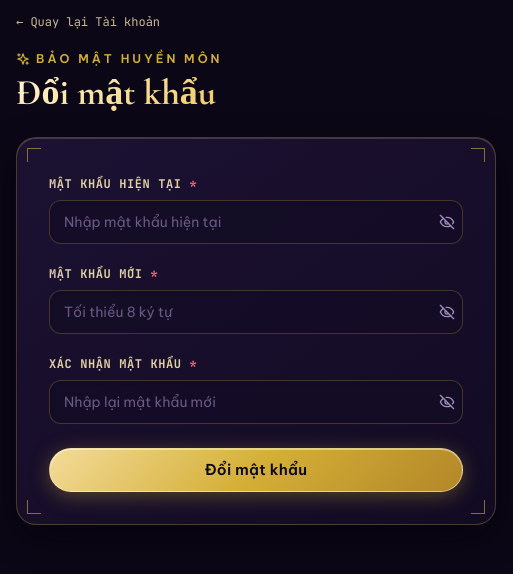
ChangePassword Page › should show CURRENT_PASSWORD_INCORRECT under the current password field
Type "WrongPassword1" into the password field labelled "Mật khẩu hiện tại". click: (256,222)
box: [49,200,463,244]
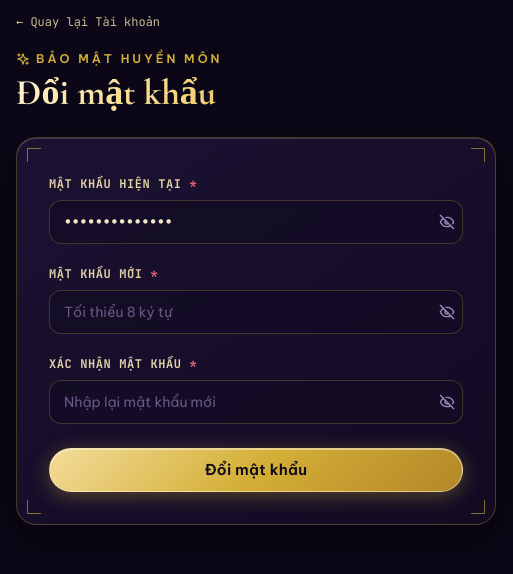
Type "NewPassword123" into the password field labelled "Mật khẩu mới". click: (256,312)
box: [49,290,463,334]
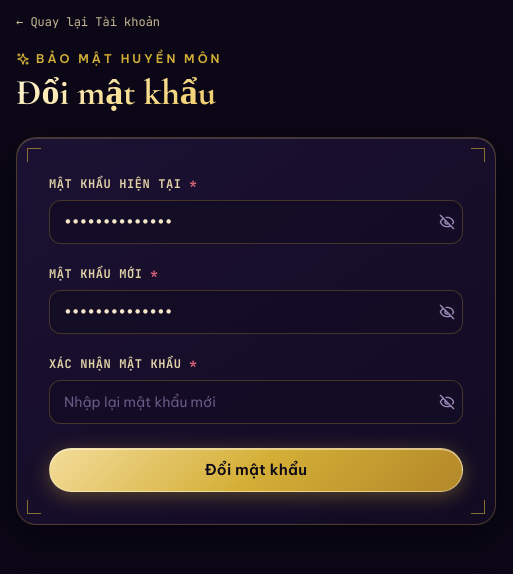
Type "NewPassword123" into the password field labelled "Xác nhận mật khẩu". click: (256,402)
box: [49,380,463,424]
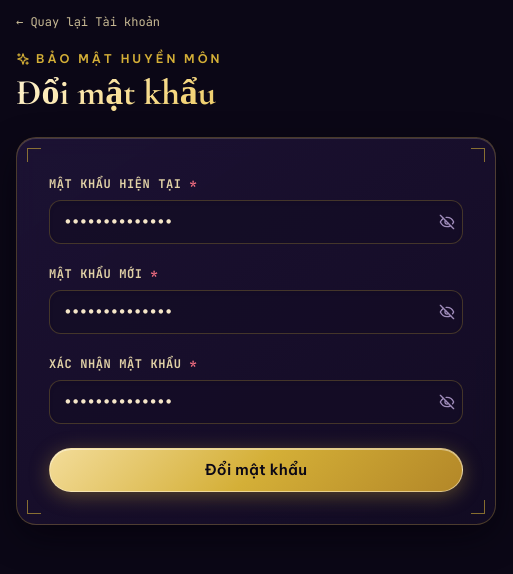
Click the button "Đổi mật khẩu". click: (256,470)
box: [49,448,463,492]
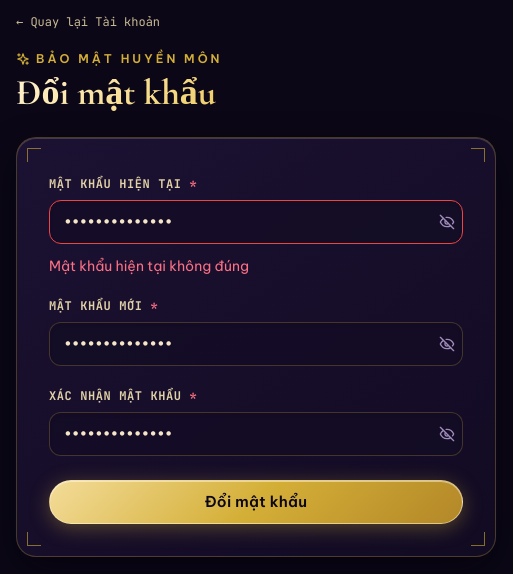
expect the text "Mật khẩu hiện tại không đúng" is shown: met, box [49,256,249,276]
